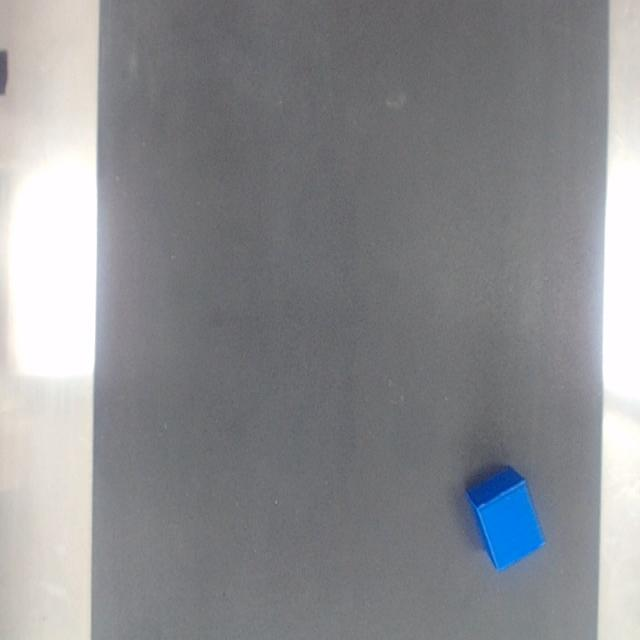Azul: (466, 467, 544, 571)
